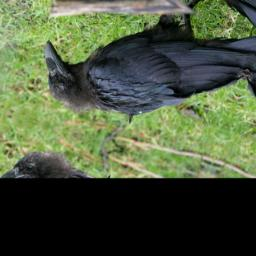Crow: (24, 0, 256, 157)
